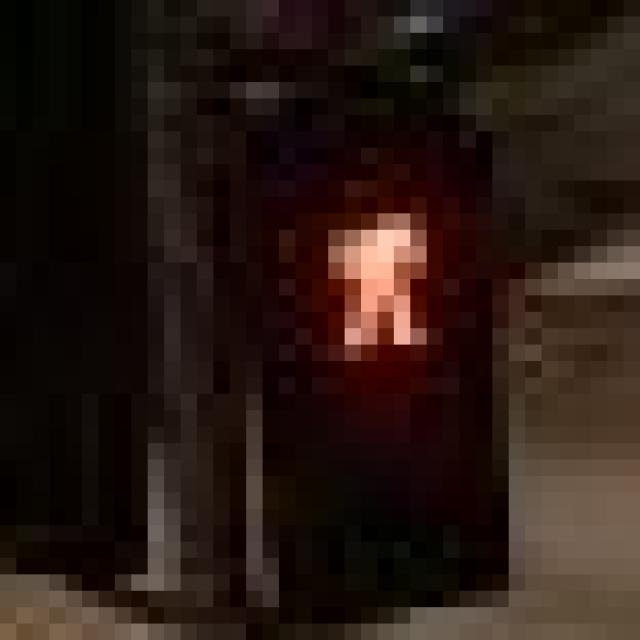red_light: (278, 164, 460, 378)
